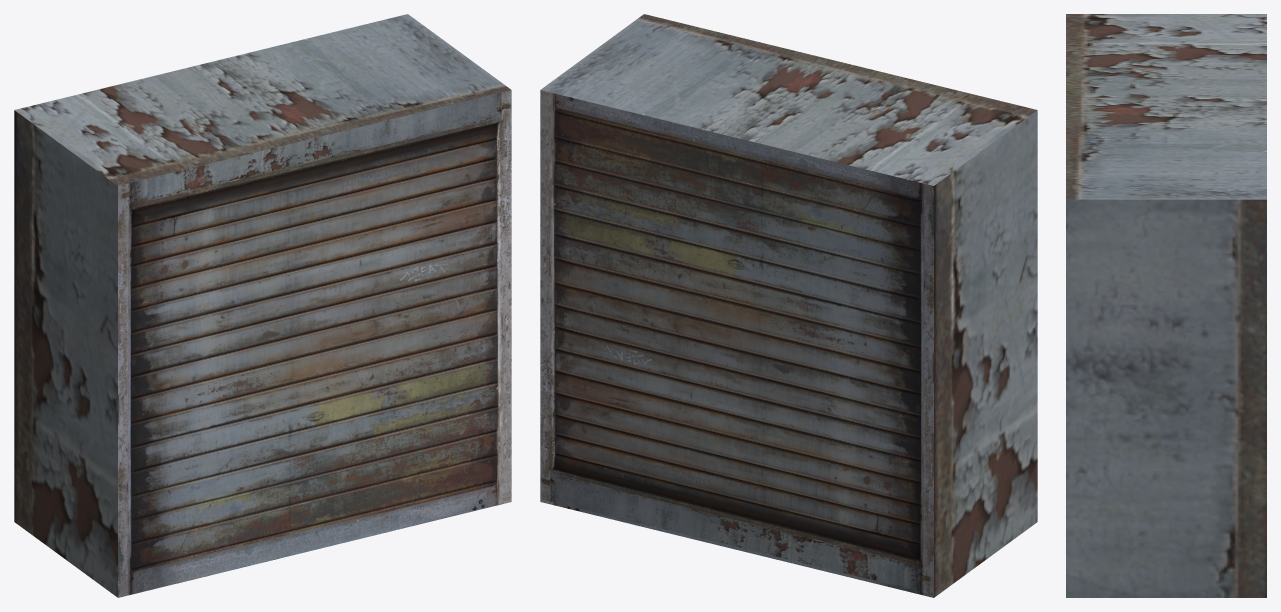
Rendered from schacht.glb.
3 views of the same model, side by side, from view 1: azimuth 30°, elevation 25°; view 2: azimuth 150°, elevation 25°; view 3: azimuth 270°, elevation 25° (orthographic). The views are drawn at different scales.
Parts seen in each view (by area): view 1: scahcht; view 2: scahcht; view 3: scahcht.
Part boxes in pixels (x1,y1,x2,y2): scahcht: (14,14,511,597); scahcht: (540,14,1037,597); scahcht: (1066,14,1266,597).
Bounding box in the file's own units: 2 × 2 × 0.9138.
1 material, 1 textured.
